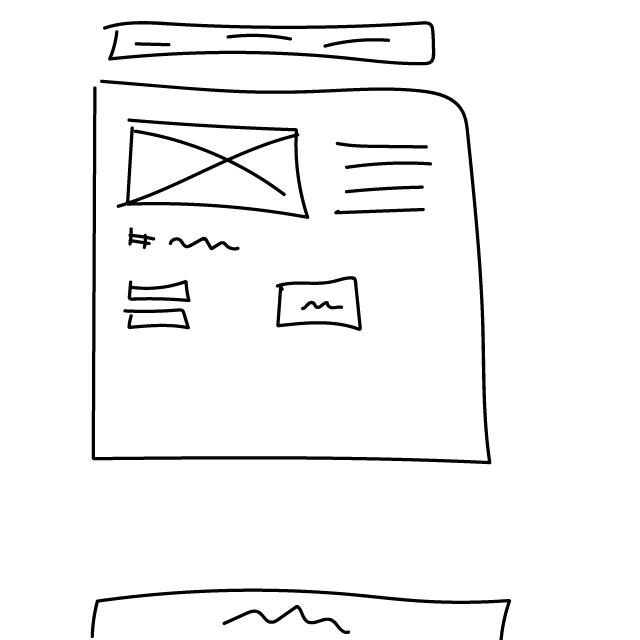buttonrotation: (274, 275, 372, 339)
containerrotation: (69, 73, 525, 480)
footerrotation: (84, 585, 527, 640)
framerotation: (118, 110, 315, 221)
headingrotation: (123, 224, 249, 263)
inputrotation: (125, 278, 195, 306), (122, 310, 195, 332)
navrotation: (101, 15, 443, 69)
textrotation: (331, 132, 436, 221)
